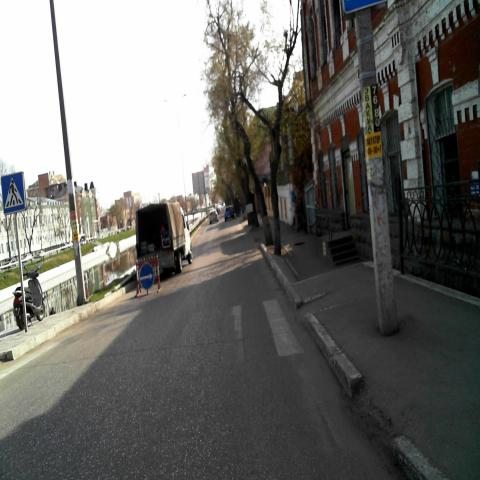4_1_2_1: (138, 262, 154, 291)
